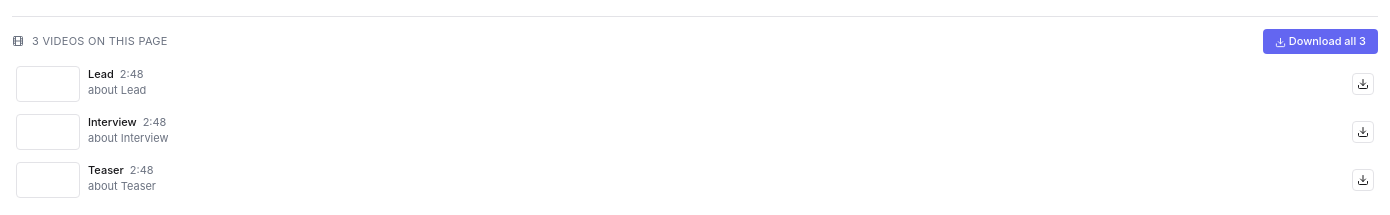
Scenario: ZdfPageVideos › downloads every video in order, named by the page, revealing once
This screenshot has width=1390, height=215.
Click the button "Download all 3" at (1320, 41), box x1=1263 y1=29 x2=1378 y2=54
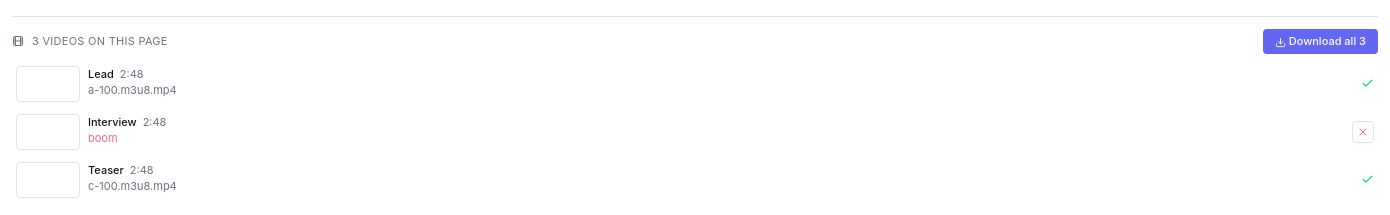
expect the text "boom" is shown: met, box x1=88 y1=131 x2=118 y2=145
